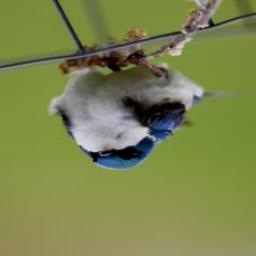Swallow: (46, 49, 247, 171)
